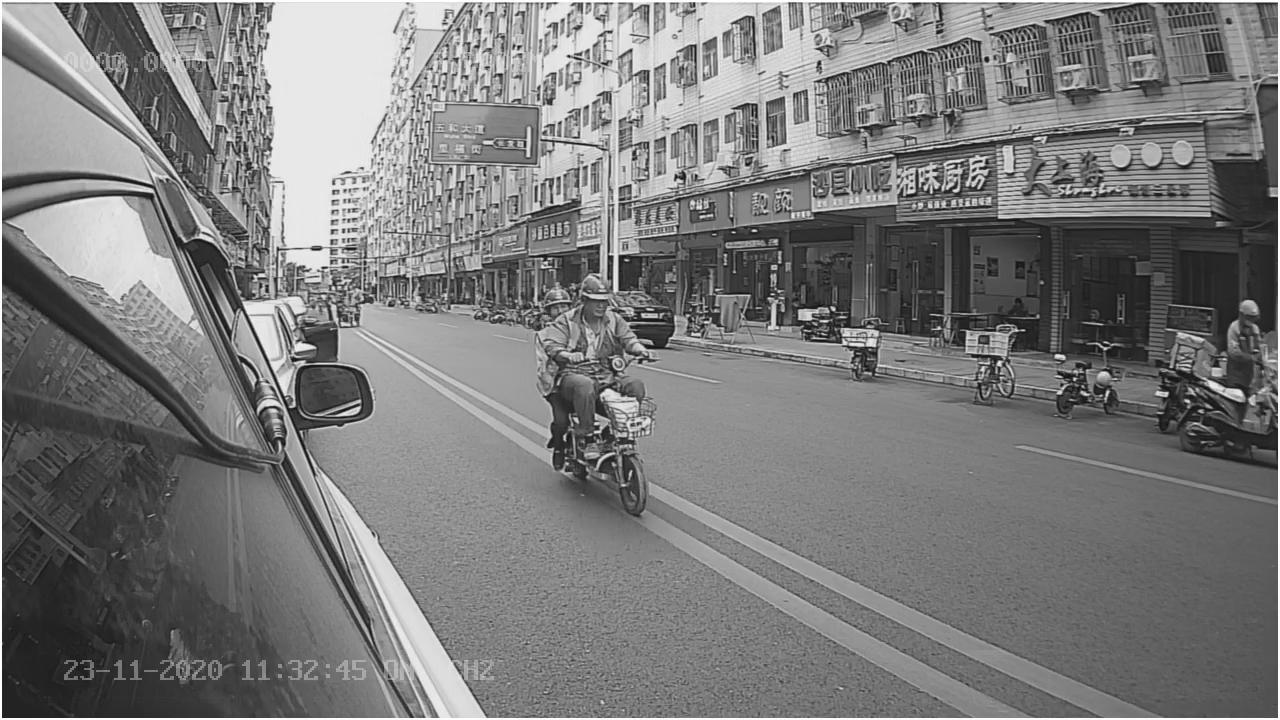person: (550, 269, 644, 362)
